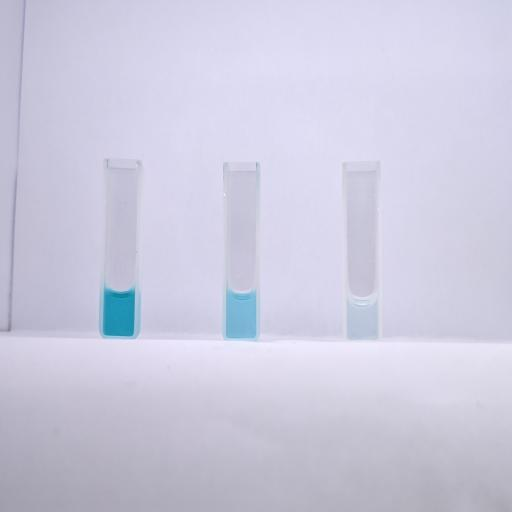cuvette: (98, 157, 144, 340), (340, 159, 382, 343), (221, 160, 261, 342)
liquid: (103, 286, 136, 336), (226, 287, 257, 339), (346, 294, 378, 339)
